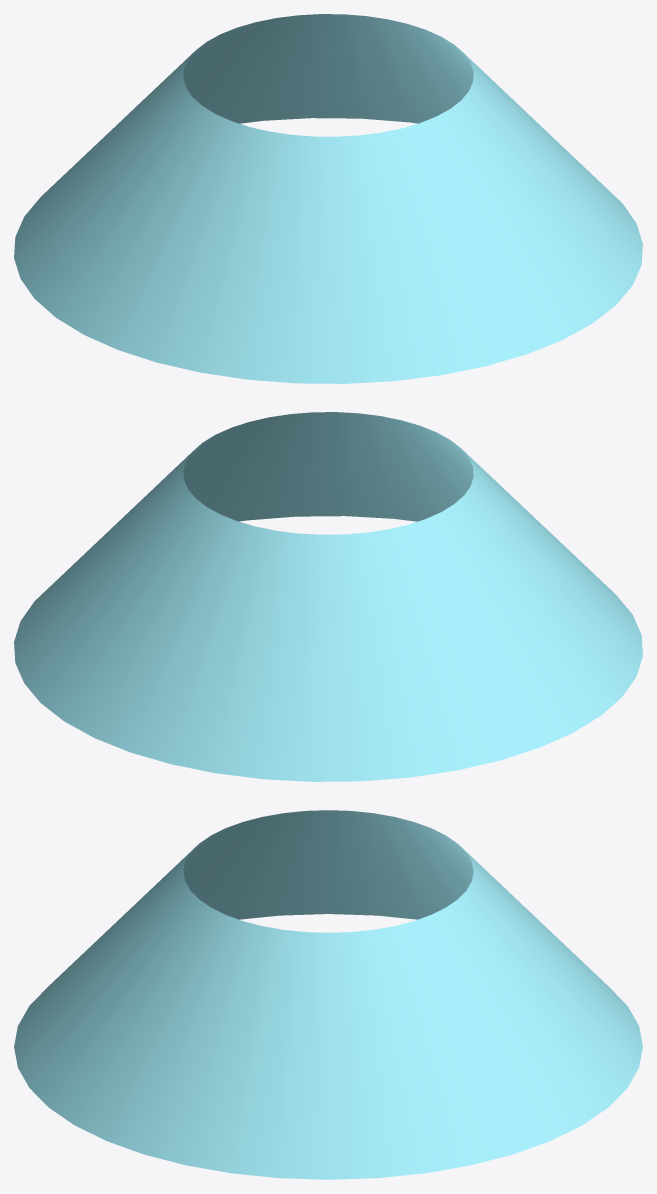
Rendered from saucer_beam.obj.
3 views of the same model, one above another, from view 1: azimuth 30°, elevation 25°; view 2: azimuth 150°, elevation 25°; view 3: azimuth 270°, elevation 25° (orthographic).
Parts seen in each view (by area): view 1: saucer_beam; view 2: saucer_beam; view 3: saucer_beam.
Part boxes in pixels (x1,y1,x2,y2): saucer_beam: (14,14,642,383); saucer_beam: (14,412,642,781); saucer_beam: (14,810,642,1179).
Size of the model in its own units: 5.2 by 1.6 by 5.2.
